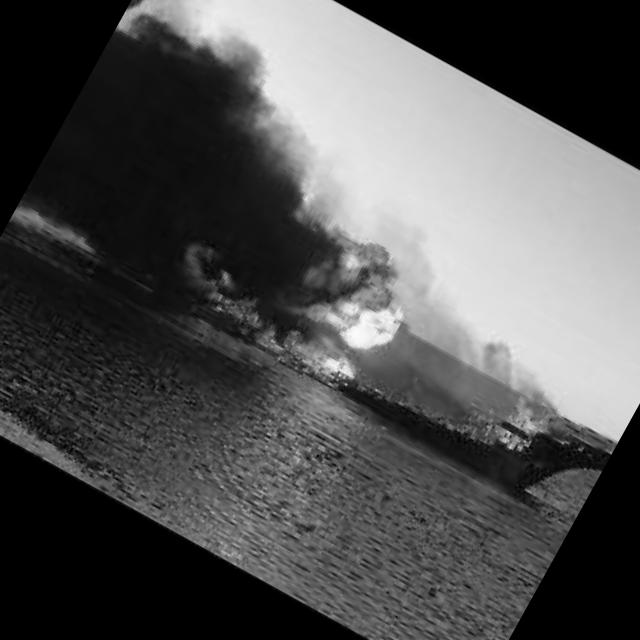fire: (200, 180, 422, 394), (478, 375, 560, 463)
smoke: (9, 0, 438, 367), (397, 285, 548, 418)
